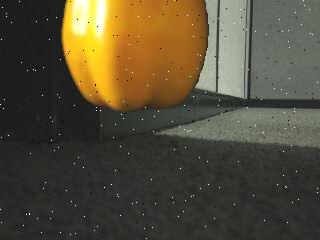Capsicum: (61, 1, 211, 113)
